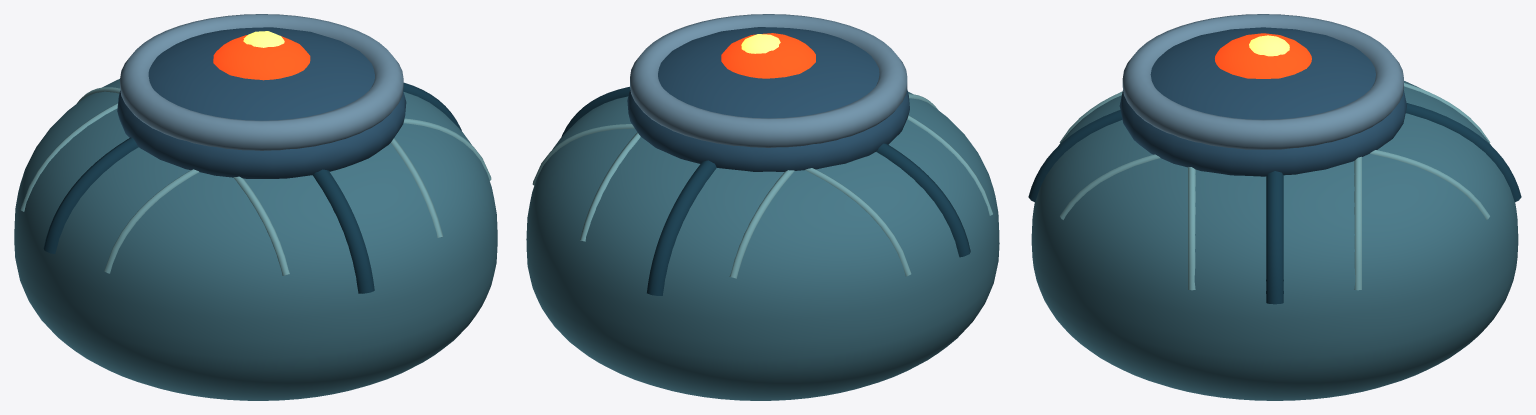
Rendered from pu_guided_bombs.glb.
The picture shows the model from 3 angles, left to right: view 1: azimuth 30°, elevation 25°; view 2: azimuth 150°, elevation 25°; view 3: azimuth 270°, elevation 25°; orthographic projection. The views are drawn at different scales.
Parts seen in each view (by area): view 1: orb, disc, disc_rim, orb_groove_13, orb_seam_13, eye, eye_core; view 2: orb, disc, disc_rim, orb_groove_13, orb_seam_13, eye, eye_core; view 3: orb, disc, disc_rim, orb_groove_13, orb_seam_13, eye, eye_core.
Boxes of the visible parts, x1=… form: orb: x1=14, y1=79, x2=497, y2=400; disc: x1=117, y1=27, x2=406, y2=178; disc_rim: x1=120, y1=14, x2=403, y2=150; orb_groove_13: x1=43, y1=82, x2=461, y2=293; orb_seam_13: x1=20, y1=87, x2=491, y2=275; eye: x1=213, y1=35, x2=310, y2=80; eye_core: x1=243, y1=31, x2=284, y2=47; orb: x1=526, y1=91, x2=999, y2=400; disc: x1=627, y1=27, x2=909, y2=171; disc_rim: x1=630, y1=14, x2=907, y2=147; orb_groove_13: x1=561, y1=86, x2=970, y2=295; orb_seam_13: x1=532, y1=94, x2=993, y2=278; eye: x1=721, y1=33, x2=815, y2=78; eye_core: x1=741, y1=34, x2=780, y2=53; orb: x1=1031, y1=81, x2=1518, y2=400; disc: x1=1119, y1=27, x2=1406, y2=176; disc_rim: x1=1122, y1=14, x2=1403, y2=149; orb_groove_13: x1=1028, y1=103, x2=1521, y2=304; orb_seam_13: x1=1059, y1=83, x2=1490, y2=290; eye: x1=1215, y1=33, x2=1311, y2=78; eye_core: x1=1249, y1=35, x2=1289, y2=56.
Bounding box in the file's own units: 20.88 × 14.98 × 21.27.
